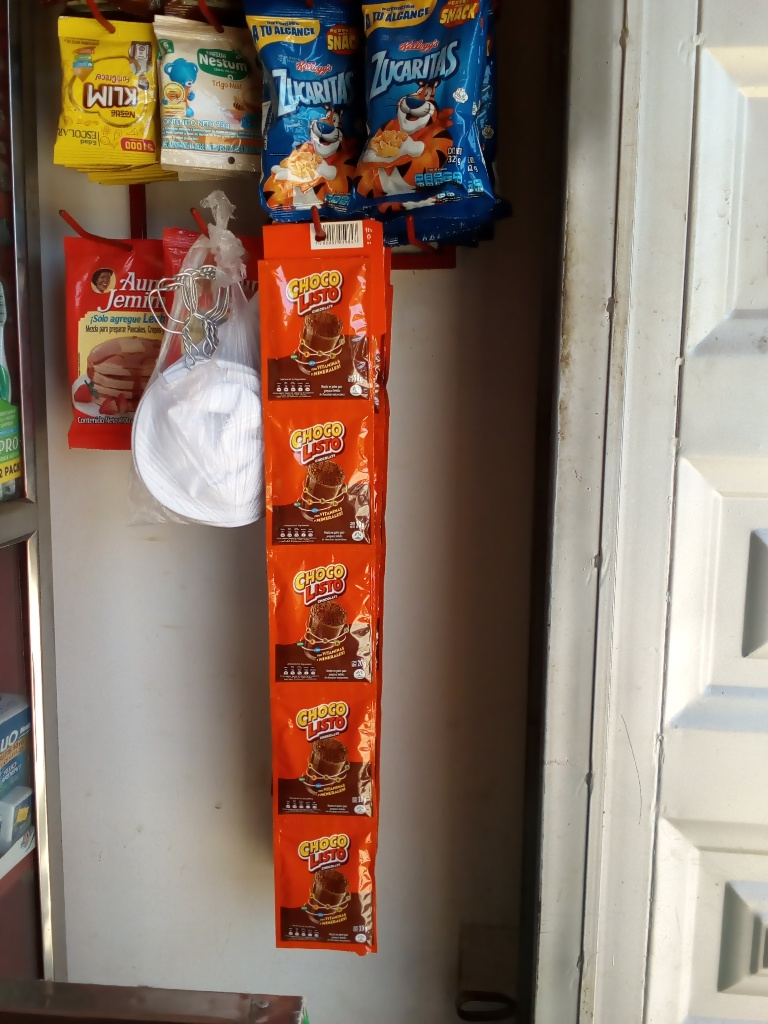COL0170103SOB02000: (257, 256, 383, 403)
